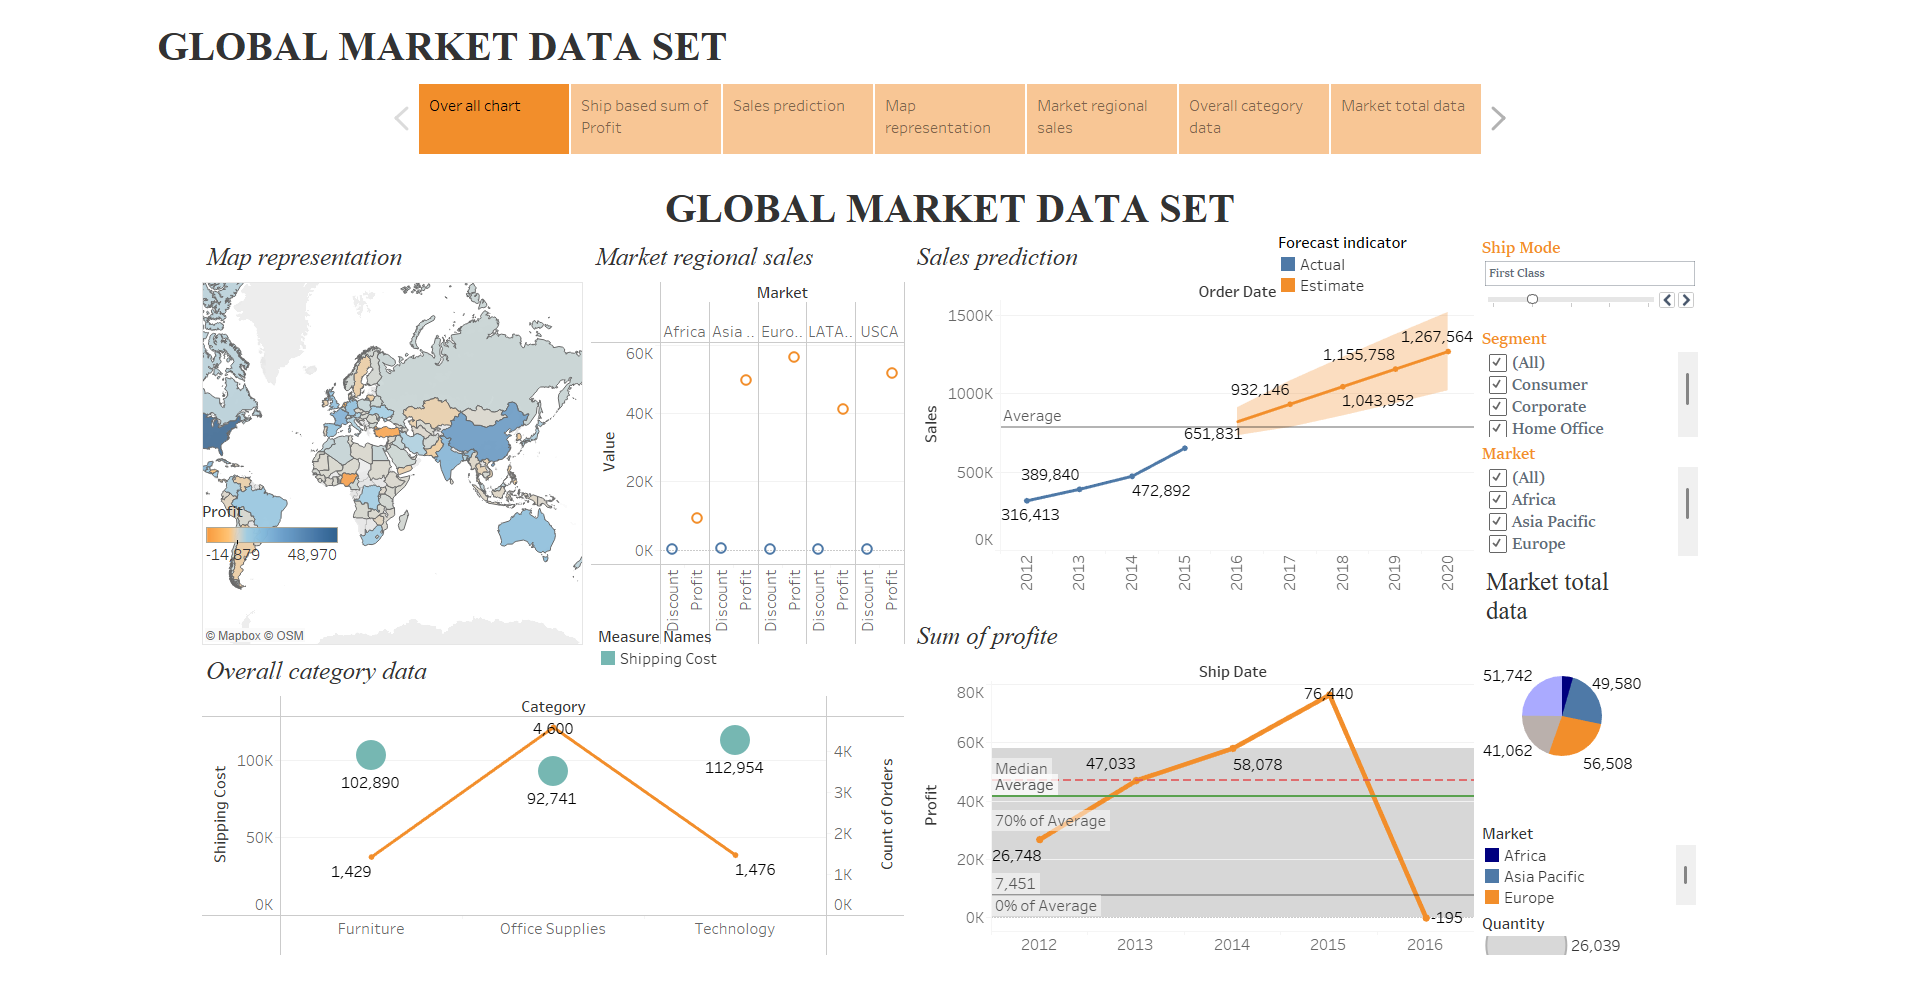

What the dashboard file says about the page in this screenshot:
{"tool":"tableau","page":{"name":"Dashboard 1","canvas":[1000,1000],"units":"permille","ordinal":0},"visuals":[{"type":"title","box":[5.3,10,989.5,66.1]},{"type":"legend","title":"Sheet 2","param":"[federated.1nj6qd210zfpyo1dzl5g90oos3fo].[none:Forecast Indicator:nk]","box":[715.8,73.6,88.8,89.8]},{"type":"worksheet","title":"Sheet 3","mark":"Automatic","box":[5.3,76.1,255.6,522.4]},{"type":"worksheet","title":"Sheet 4","mark":"Shape","cols":["Market"],"box":[260.9,76.1,212.2,522.4]},{"type":"worksheet","title":"Sheet 2","mark":"Automatic","rows":["Sales"],"cols":["Order Date"],"box":[473,76.1,374.3,477.6]},{"type":"filter","title":"Sheet 1","param":"[federated.1nj6qd210zfpyo1dzl5g90oos3fo].[none:Ship Mode:nk]","box":[847.4,76.1,147.4,113.5]},{"type":"filter","title":"Sheet 1","param":"[federated.1nj6qd210zfpyo1dzl5g90oos3fo].[none:Segment:nk]","box":[847.4,189.5,147.4,143.4]},{"type":"filter","title":"Sheet 1","param":"[federated.1nj6qd210zfpyo1dzl5g90oos3fo].[none:Market:nk]","box":[847.4,332.9,147.4,148.4]},{"type":"legend","title":"Sheet 3","param":"[federated.1nj6qd210zfpyo1dzl5g90oos3fo].[sum:Profit:qk]","box":[7.9,411.5,92.1,109.7]},{"type":"worksheet","title":"Sheet 6","mark":"Pie","box":[847.4,481.3,147.4,322.9]},{"type":"worksheet","title":"Sheet 1","mark":"Automatic","rows":["Profit"],"cols":["Ship Date"],"box":[473,553.6,374.3,436.4]},{"type":"legend","title":"Sheet 5","param":"[federated.1nj6qd210zfpyo1dzl5g90oos3fo].[:Measure Names]","box":[268.4,569.8,92.1,53.6]},{"type":"worksheet","title":"Sheet 5","mark":"Automatic","rows":["Shipping Cost","Orders_3DD3943F20C242CB870DA2F6CCF628AD"],"cols":["Category"],"box":[5.3,598.5,467.8,391.5]},{"type":"legend","title":"Sheet 6","param":"[federated.1nj6qd210zfpyo1dzl5g90oos3fo].[none:Market:nk]","box":[847.4,804.3,147.4,122.2]},{"type":"legend","title":"Sheet 6","param":"[federated.1nj6qd210zfpyo1dzl5g90oos3fo].[sum:Quantity:qk]","box":[847.4,926.4,147.4,63.6]}]}

Visuals, with their boxes on the dashboard's canvas, which has no fixed pixel size, in thousandths of its width and height (x1, y1, x2, y2). These are canvas units, not pixel positions in the 1909x981 screenshot, which may show the page scaled, cropped or inside an application window:
title: (5,10,995,76)
"Sheet 2" legend: (716,74,805,163)
"Sheet 3" worksheet: (5,76,261,598)
"Sheet 4" worksheet (Shape marks): (261,76,473,598)
"Sheet 2" worksheet: (473,76,847,554)
"Sheet 1" filter: (847,76,995,190)
"Sheet 1" filter: (847,190,995,333)
"Sheet 1" filter: (847,333,995,481)
"Sheet 3" legend: (8,412,100,521)
"Sheet 6" worksheet (Pie marks): (847,481,995,804)
"Sheet 1" worksheet: (473,554,847,990)
"Sheet 5" legend: (268,570,360,623)
"Sheet 5" worksheet: (5,598,473,990)
"Sheet 6" legend: (847,804,995,926)
"Sheet 6" legend: (847,926,995,990)
